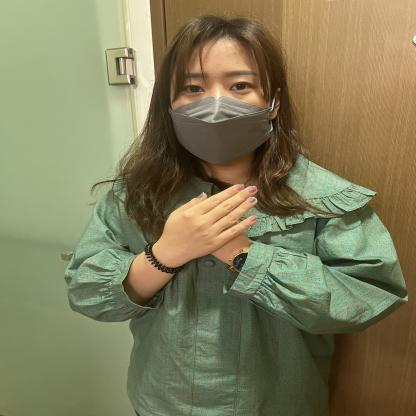Grieve: (72, 140, 372, 350)
